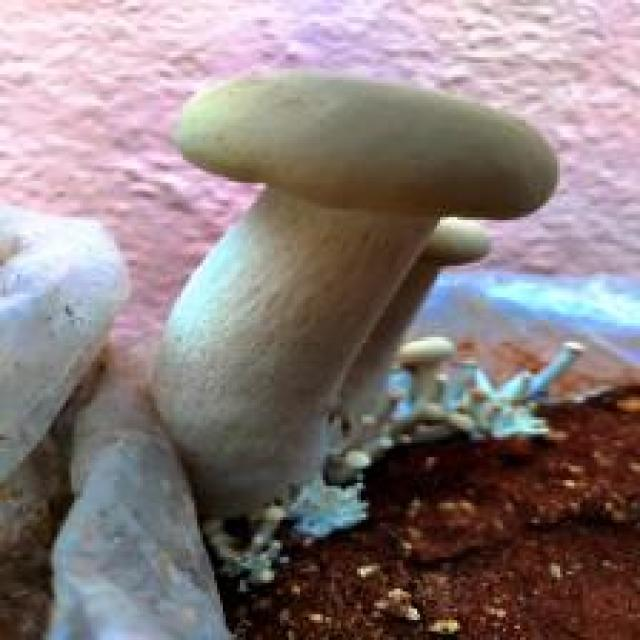field-mushroom: (143, 63, 560, 520)
